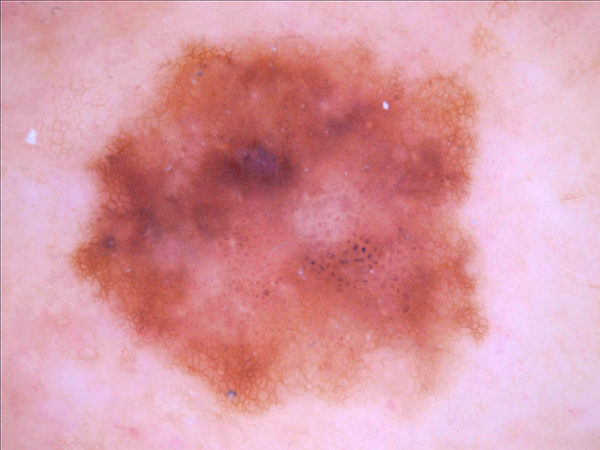Detected Lesion: (72, 34, 494, 413)
